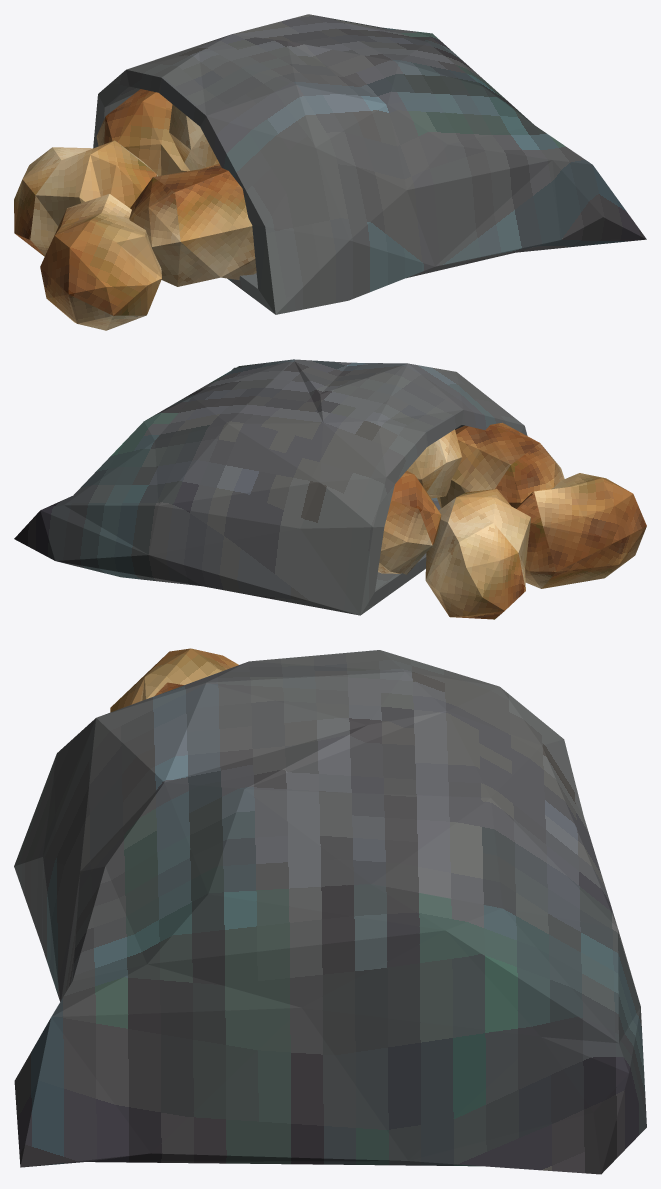
Rendered from pile-potato.glb.
3 renders of one model, top to bottom at view 1: azimuth 30°, elevation 25°; view 2: azimuth 150°, elevation 25°; view 3: azimuth 270°, elevation 25°, orthographic. The views are drawn at different scales.
Visible parts, largest first — view 1: pile-potato; view 2: pile-potato; view 3: pile-potato.
Part boxes in pixels (<box>): pile-potato: <box>14,14,646,330</box>; pile-potato: <box>14,359,646,619</box>; pile-potato: <box>14,648,646,1174</box>.
Bounding box in the file's own units: 0.8522 × 0.2859 × 0.5572.
Materials: 2 (2 with a texture image).
